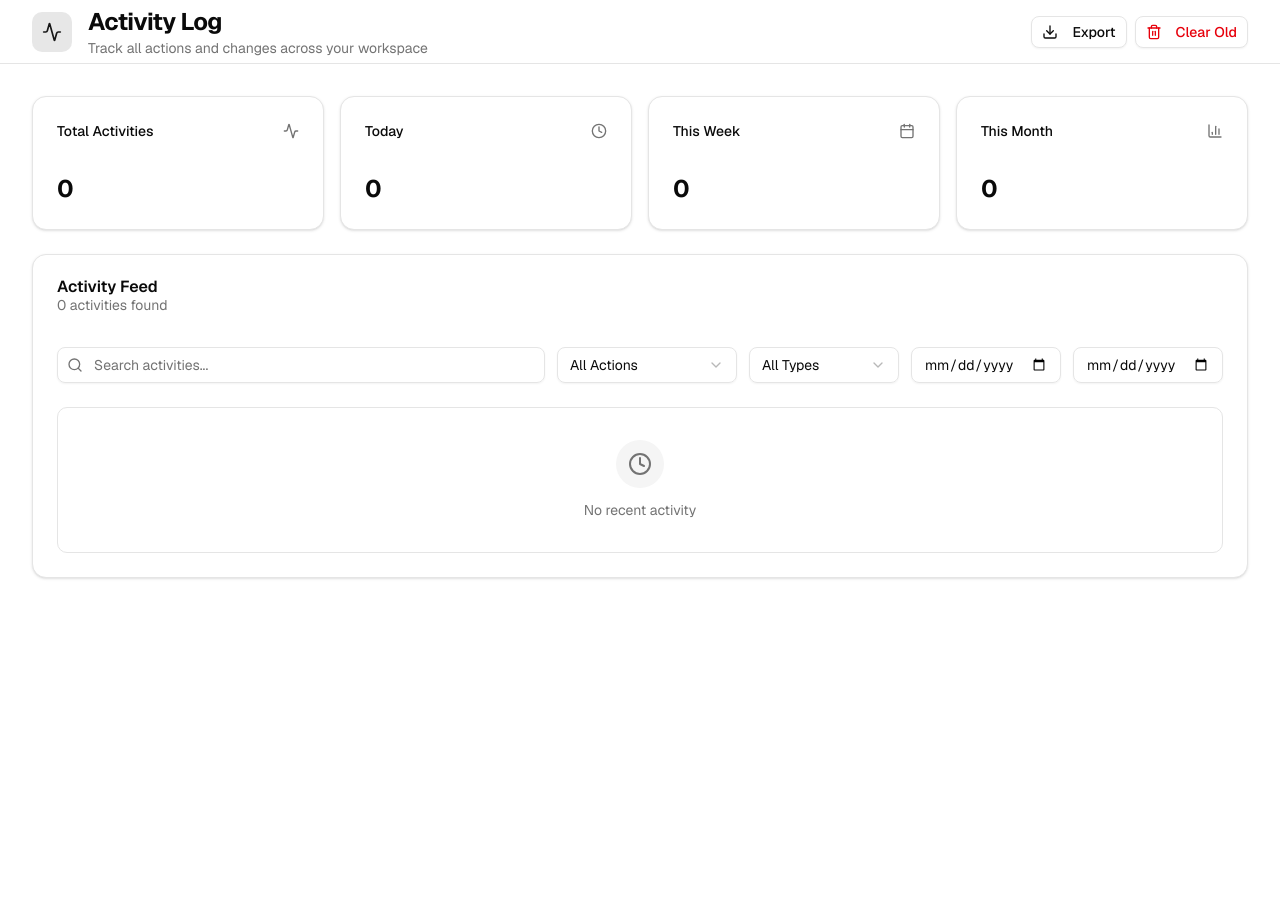
Scenario: ActivityLogPage › should open export dialog when export button is clicked
Click the button "Export".
click(1079, 32)  # box x1=1032 y1=16 x2=1127 y2=48
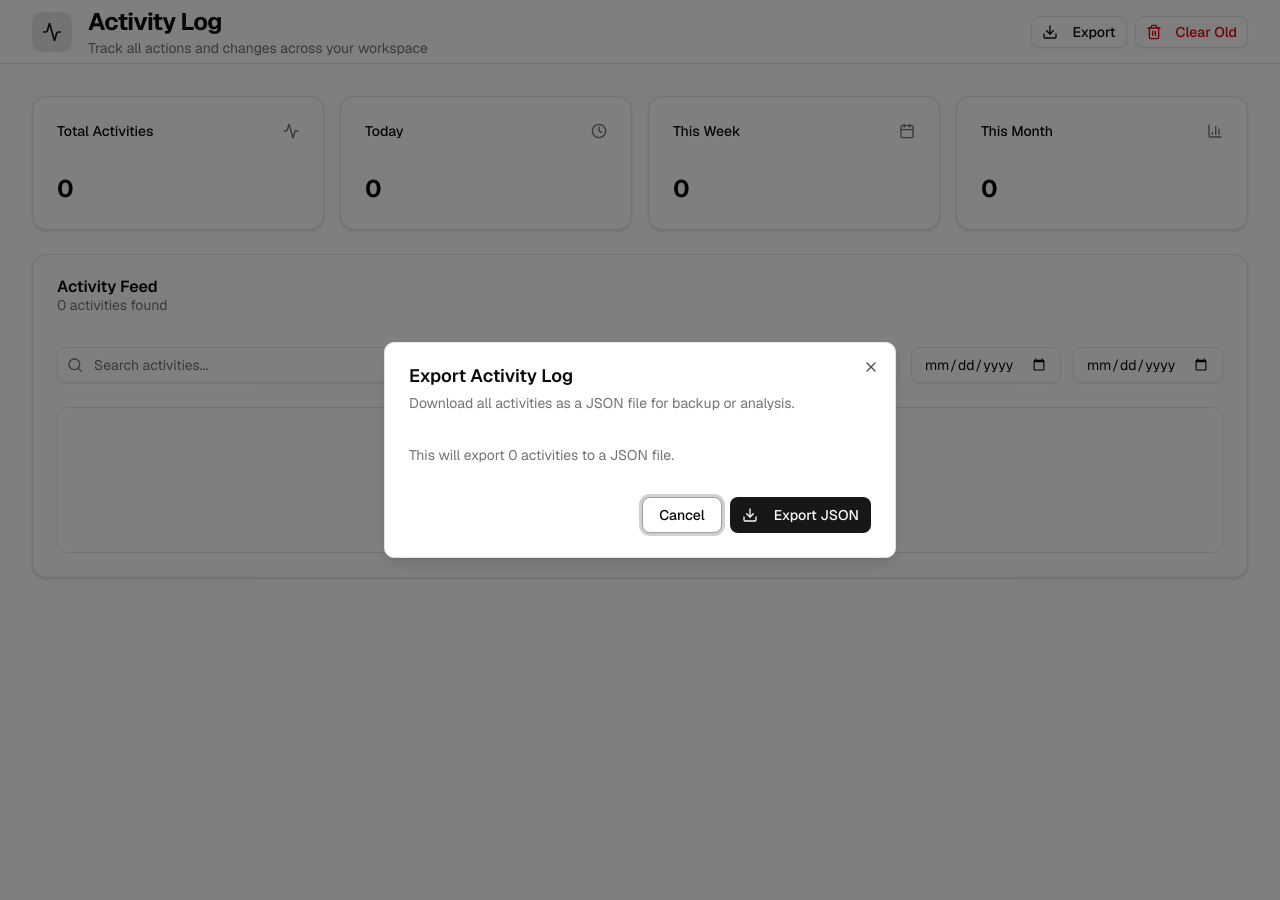
Check: the heading "Export Activity Log" is shown, box x1=409 y1=364 x2=573 y2=387
Check: the text "Download all activities" is shown, box x1=409 y1=394 x2=794 y2=412
